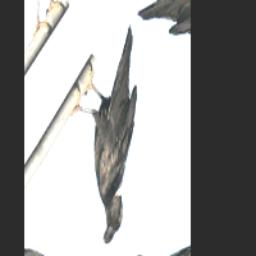Crow: (48, 8, 181, 252)
